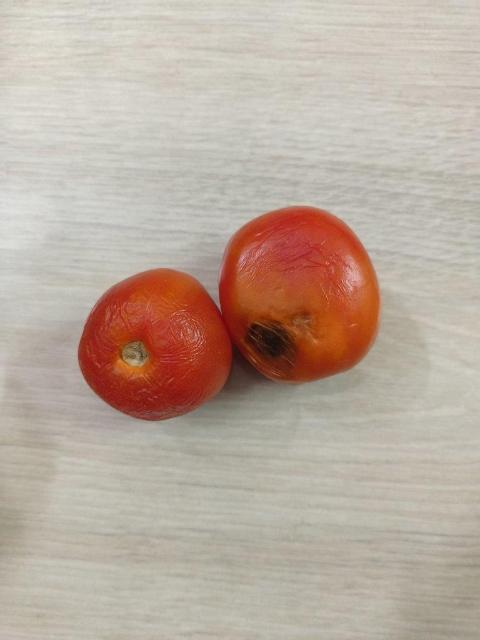defect: (215, 202, 384, 386)
